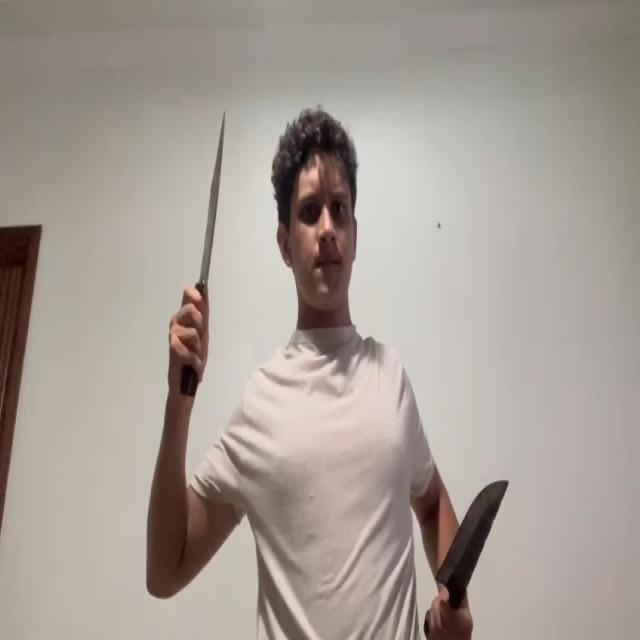knife: (435, 478, 509, 584), (200, 111, 228, 301)
